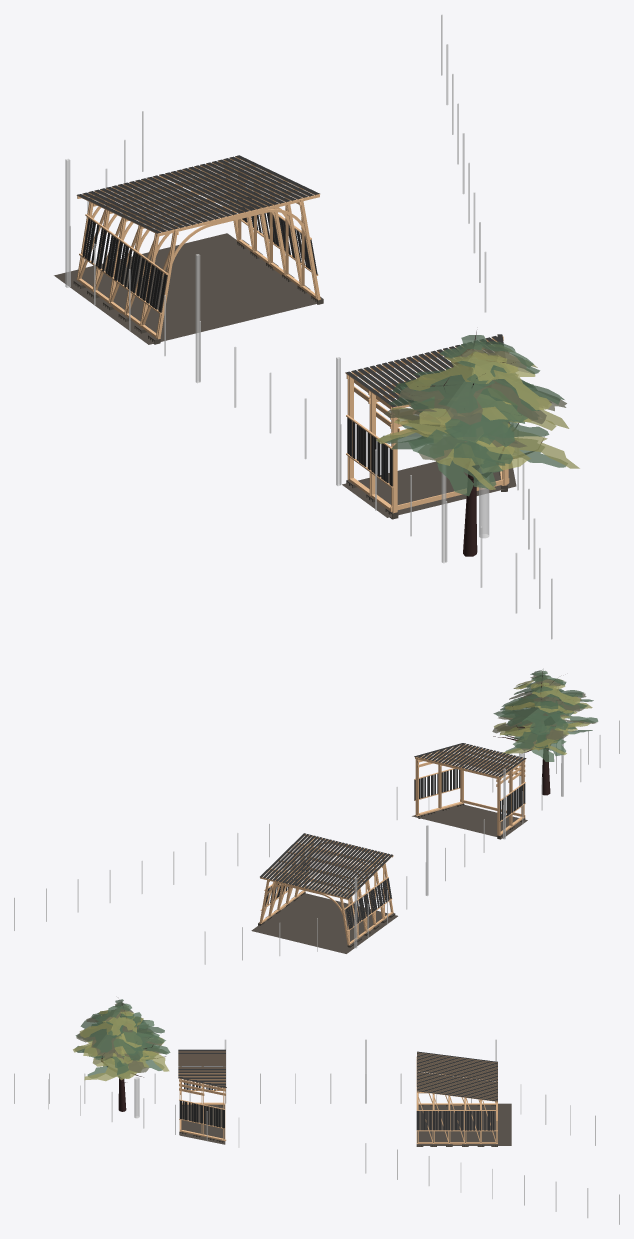
File: PYB_Model.obj
3 renders of one model, top to bottom at view 1: azimuth 30°, elevation 25°; view 2: azimuth 150°, elevation 25°; view 3: azimuth 270°, elevation 25°, orthographic. The views are drawn at different scales.
Visible parts, largest first — view 1: Mesh1 Group1 Model, Mesh2 Group2 Model, Mesh320 Group211 Group197 Group195 Component_22_1 Model, Mesh337 Group229 Group218 Group195 Component_22_1 Model, Mesh313 Group204 Group197 Group195 Component_22_1 Model, Mesh321 Group212 Group197 Group195 Component_22_1 Model, Mesh331 Group223 Group218 Group195 Component_22_1 Model, Mesh311 Group202 Group197 Group195 Component_22_1 Model, Mesh341 Group233 Group218 Group195 Component_22_1 Model, Mesh340 Group232 Group218 Group195 Component_22_1 Model, Mesh332 Group224 Group218 Group195 Component_22_1 Model, Mesh318 Group209 Group197 Group195 Component_22_1 Model (+10 smaller); view 2: Mesh1 Group1 Model, Mesh2 Group2 Model, Mesh317 Group208 Group197 Group195 Component_22_1 Model, Mesh320 Group211 Group197 Group195 Component_22_1 Model, Mesh315 Group206 Group197 Group195 Component_22_1 Model, Mesh321 Group212 Group197 Group195 Component_22_1 Model; view 3: Mesh1 Group1 Model, Mesh2 Group2 Model, Mesh340 Group232 Group218 Group195 Component_22_1 Model, Mesh313 Group204 Group197 Group195 Component_22_1 Model, Mesh341 Group233 Group218 Group195 Component_22_1 Model, Mesh338 Group230 Group218 Group195 Component_22_1 Model, Mesh317 Group208 Group197 Group195 Component_22_1 Model, Mesh312 Group203 Group197 Group195 Component_22_1 Model, Mesh339 Group231 Group218 Group195 Component_22_1 Model, Mesh314 Group205 Group197 Group195 Component_22_1 Model, Mesh308 Group199 Group197 Group195 Component_22_1 Model, Mesh333 Group225 Group218 Group195 Component_22_1 Model.
Part boxes in pixels (x1=…): Mesh1 Group1 Model: x1=54, y1=233, x2=317, y2=344; Mesh2 Group2 Model: x1=342, y1=461, x2=516, y2=517; Mesh320 Group211 Group197 Group195 Component_22_1 Model: x1=398, y1=374, x2=491, y2=424; Mesh337 Group229 Group218 Group195 Component_22_1 Model: x1=410, y1=380, x2=524, y2=446; Mesh313 Group204 Group197 Group195 Component_22_1 Model: x1=376, y1=427, x2=579, y2=472; Mesh321 Group212 Group197 Group195 Component_22_1 Model: x1=411, y1=364, x2=494, y2=413; Mesh331 Group223 Group218 Group195 Component_22_1 Model: x1=401, y1=418, x2=516, y2=489; Mesh311 Group202 Group197 Group195 Component_22_1 Model: x1=380, y1=421, x2=549, y2=463; Mesh341 Group233 Group218 Group195 Component_22_1 Model: x1=460, y1=370, x2=564, y2=410; Mesh340 Group232 Group218 Group195 Component_22_1 Model: x1=484, y1=379, x2=566, y2=424; Mesh332 Group224 Group218 Group195 Component_22_1 Model: x1=391, y1=407, x2=503, y2=465; Mesh318 Group209 Group197 Group195 Component_22_1 Model: x1=409, y1=375, x2=517, y2=424; Mesh1 Group1 Model: x1=251, y1=893, x2=397, y2=953; Mesh2 Group2 Model: x1=412, y1=804, x2=527, y2=838; Mesh317 Group208 Group197 Group195 Component_22_1 Model: x1=501, y1=704, x2=569, y2=734; Mesh320 Group211 Group197 Group195 Component_22_1 Model: x1=521, y1=693, x2=586, y2=711; Mesh315 Group206 Group197 Group195 Component_22_1 Model: x1=493, y1=711, x2=563, y2=734; Mesh321 Group212 Group197 Group195 Component_22_1 Model: x1=525, y1=690, x2=583, y2=706; Mesh1 Group1 Model: x1=417, y1=1103, x2=511, y2=1145; Mesh2 Group2 Model: x1=179, y1=1105, x2=225, y2=1144; Mesh340 Group232 Group218 Group195 Component_22_1 Model: x1=76, y1=1022, x2=124, y2=1058; Mesh313 Group204 Group197 Group195 Component_22_1 Model: x1=84, y1=1055, x2=150, y2=1081; Mesh341 Group233 Group218 Group195 Component_22_1 Model: x1=83, y1=1022, x2=124, y2=1052; Mesh338 Group230 Group218 Group195 Component_22_1 Model: x1=83, y1=1017, x2=143, y2=1056; Mesh317 Group208 Group197 Group195 Component_22_1 Model: x1=126, y1=1022, x2=165, y2=1051; Mesh312 Group203 Group197 Group195 Component_22_1 Model: x1=97, y1=1050, x2=158, y2=1078; Mesh339 Group231 Group218 Group195 Component_22_1 Model: x1=83, y1=1012, x2=141, y2=1055; Mesh314 Group205 Group197 Group195 Component_22_1 Model: x1=87, y1=1056, x2=147, y2=1077; Mesh308 Group199 Group197 Group195 Component_22_1 Model: x1=93, y1=1048, x2=166, y2=1072; Mesh333 Group225 Group218 Group195 Component_22_1 Model: x1=73, y1=1043, x2=169, y2=1071.
Size of the model in its own units: 1794 by 718 by 3447.
